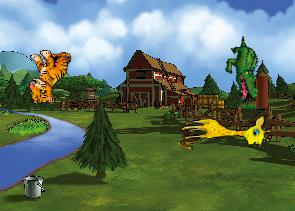crocodile: (214, 35, 274, 104)
giraffe: (180, 114, 271, 151)
tiger: (25, 47, 74, 104)
